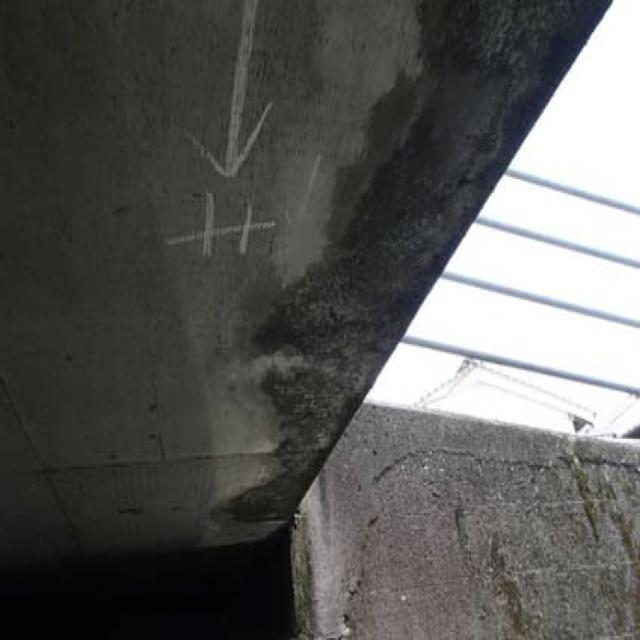leakage: (274, 11, 520, 540)
